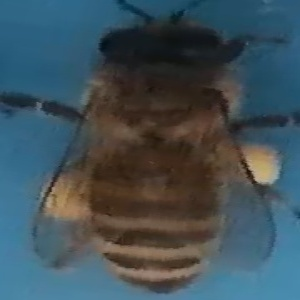bee: (13, 4, 297, 294)
